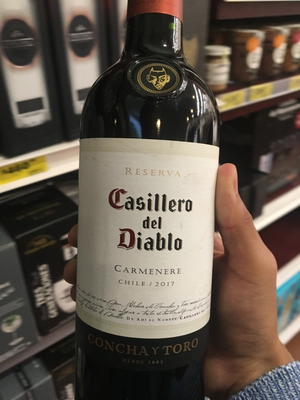casillero del diablo carmenere: (73, 1, 233, 400)
